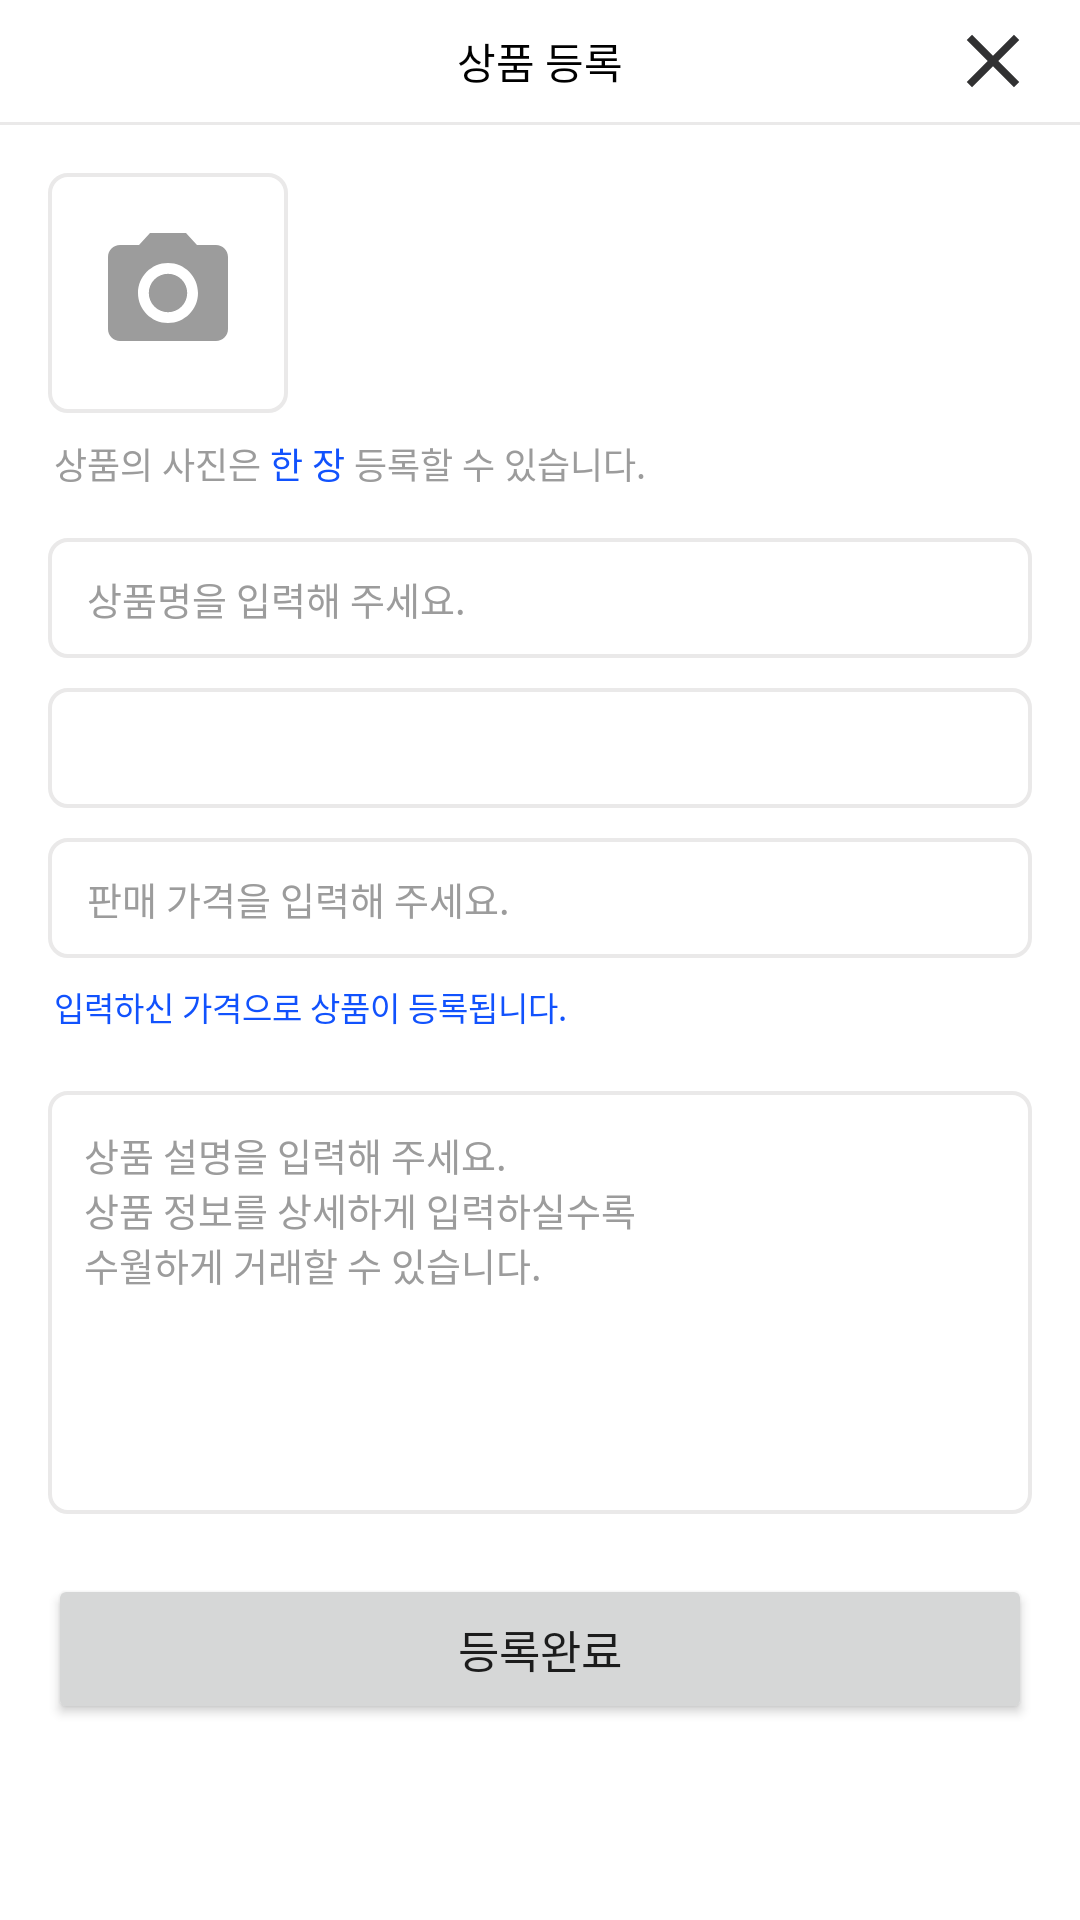

Named icons in this screenshot (1080px x 1920px) and their centers, point (x, y):
close: point (993, 61)
photo camera: point (168, 287)
